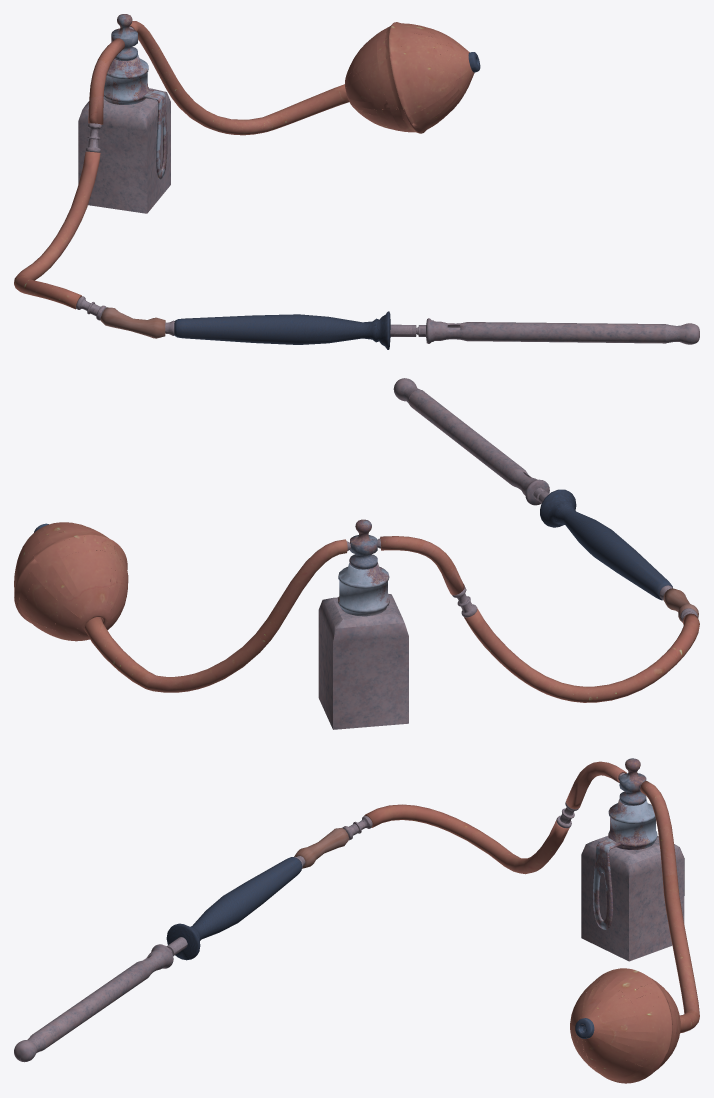
File: termocauter.dae
3 views of the same model, one above another, from view 1: azimuth 30°, elevation 25°; view 2: azimuth 150°, elevation 25°; view 3: azimuth 270°, elevation 25° (orthographic). The views are drawn at different scales.
Parts seen in each view (by area): view 1: BezierCurve.003_BezierCurve.023; view 2: BezierCurve.003_BezierCurve.023; view 3: BezierCurve.003_BezierCurve.023.
Part boxes in pixels (<box>): BezierCurve.003_BezierCurve.023: <box>14,14,699,349</box>; BezierCurve.003_BezierCurve.023: <box>14,378,699,729</box>; BezierCurve.003_BezierCurve.023: <box>14,758,699,1083</box>.
Bounding box in the file's own units: 9.99 × 11.07 × 3.22.
9 materials, 9 textured.
